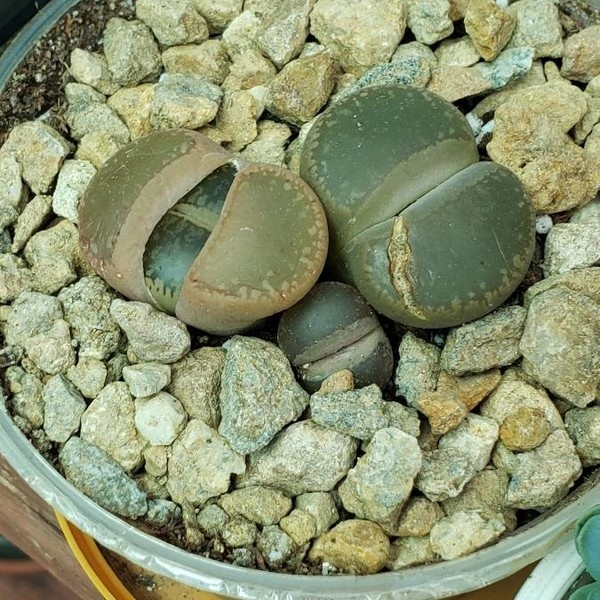obstacle: (0, 154, 599, 599), (0, 0, 135, 143)
